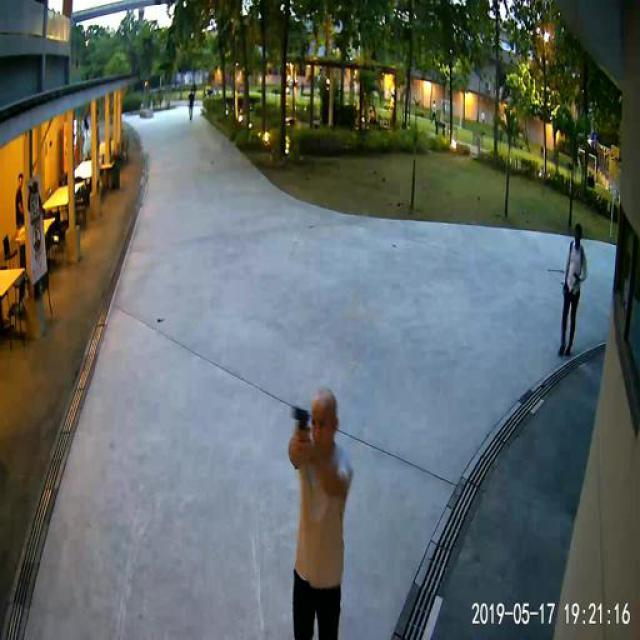Gun: (289, 402, 309, 452)
